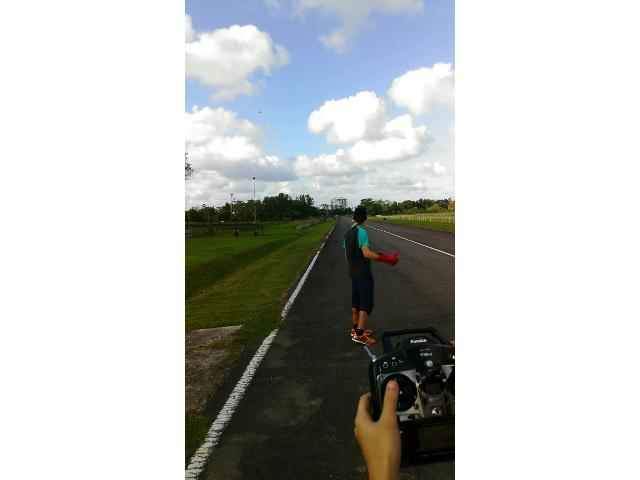Anti-Drone: (257, 110, 267, 114)
